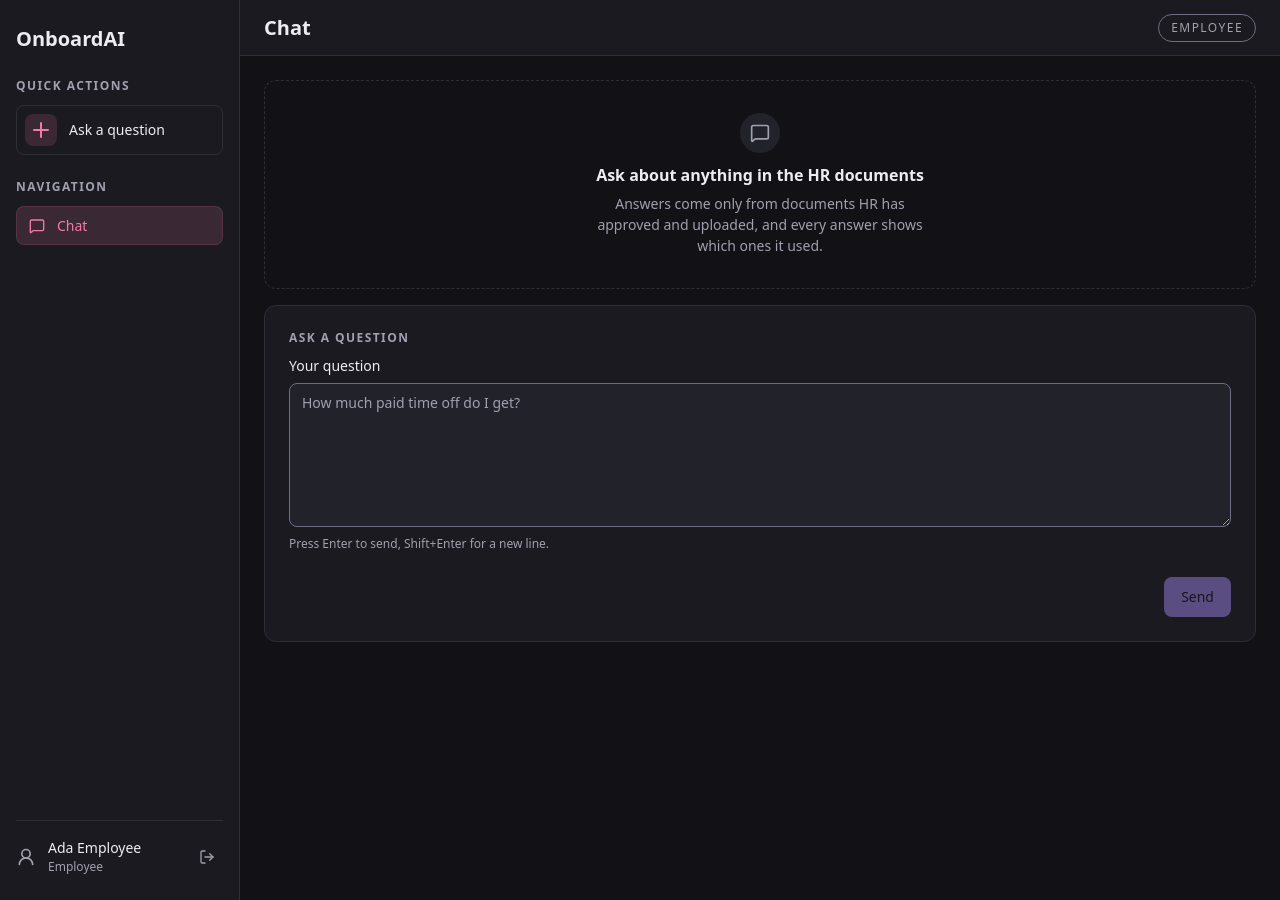
shows the HR fallback message when fallback is true
Type "What is the airspeed velocity of an unladen swallow?" into the text box labelled "Your question" at (760, 454), box [289,382,1231,526]
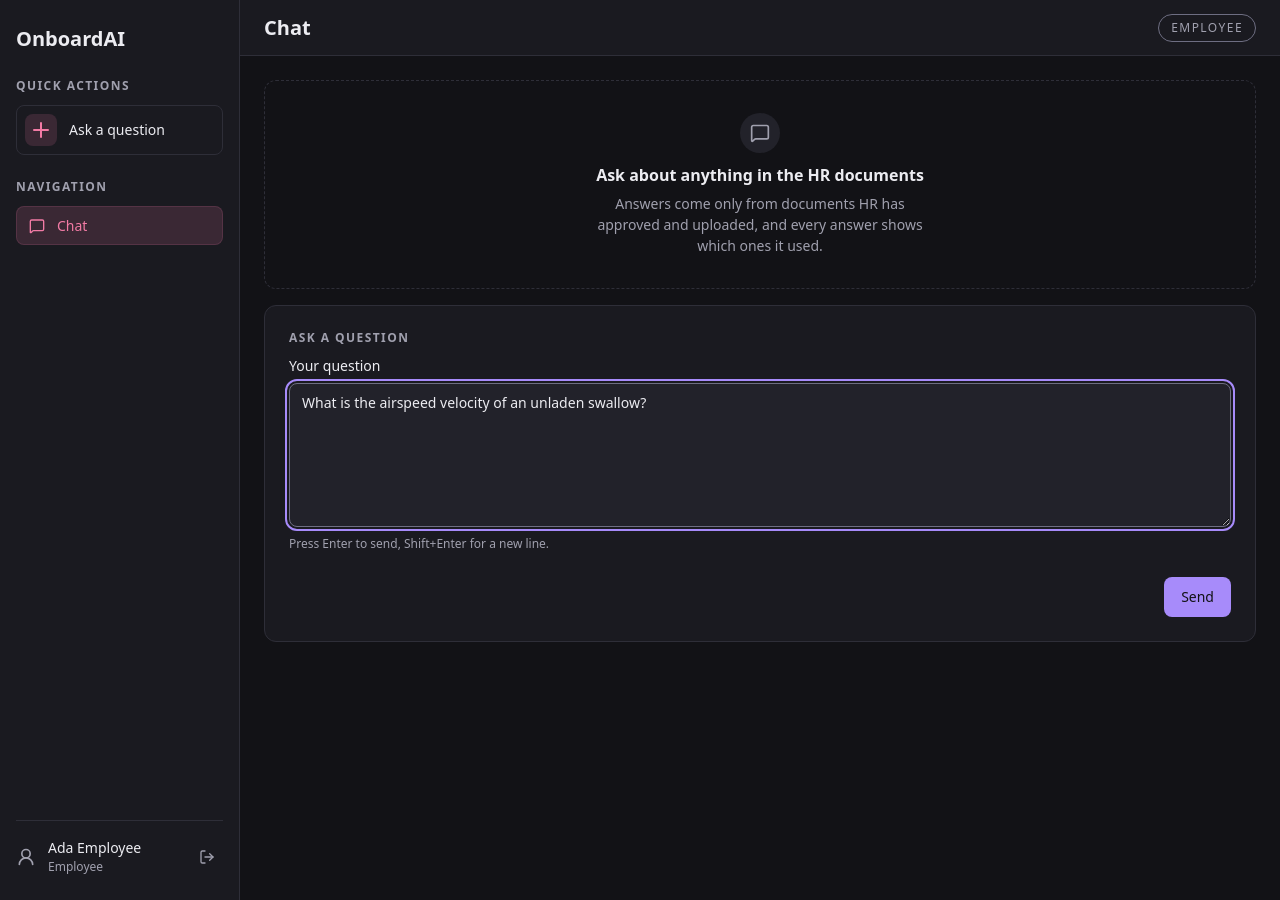
Click the button "Send" at (1198, 596), box [1164,576,1231,616]
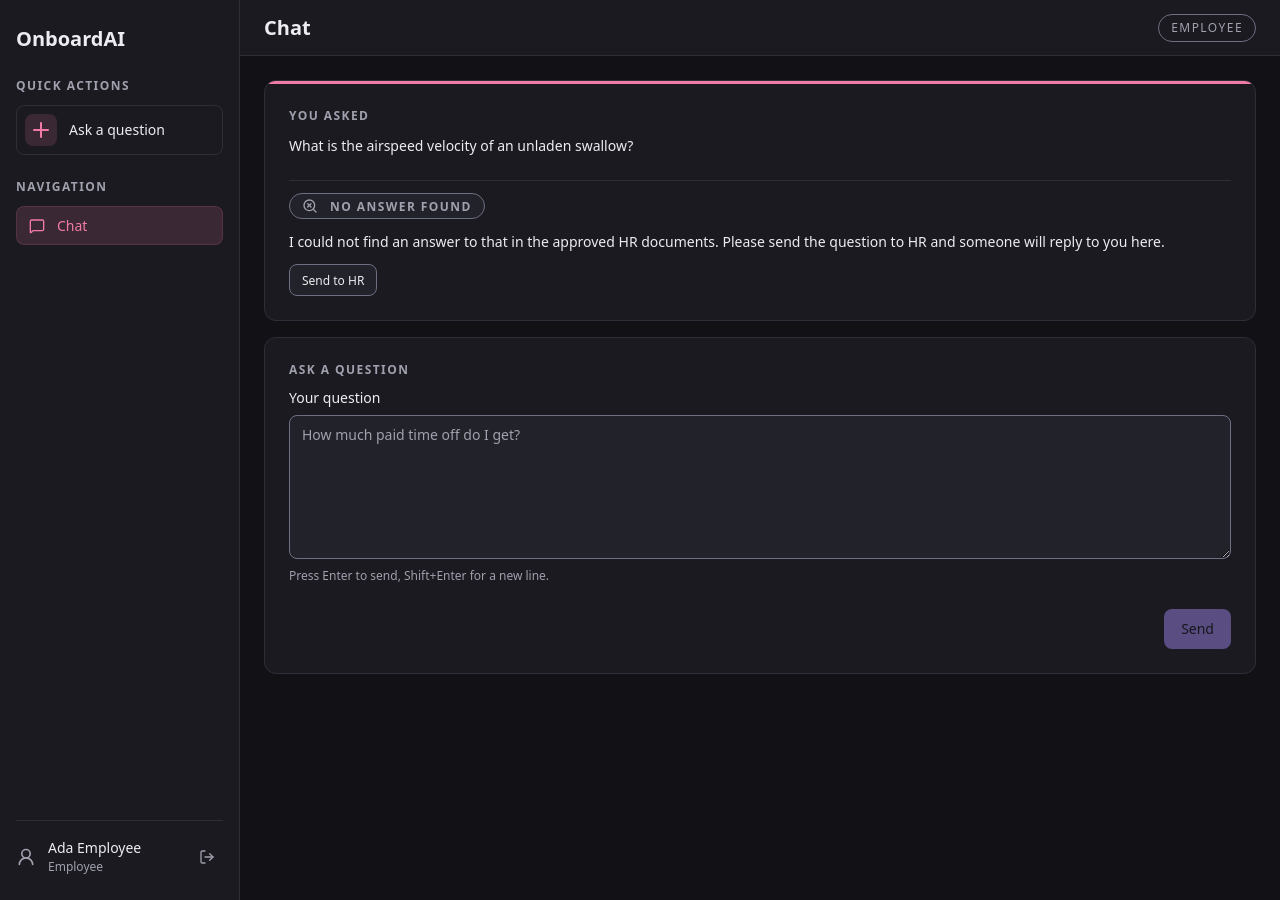
Expected: the text "No answer found" is shown, [289,193,485,219]
